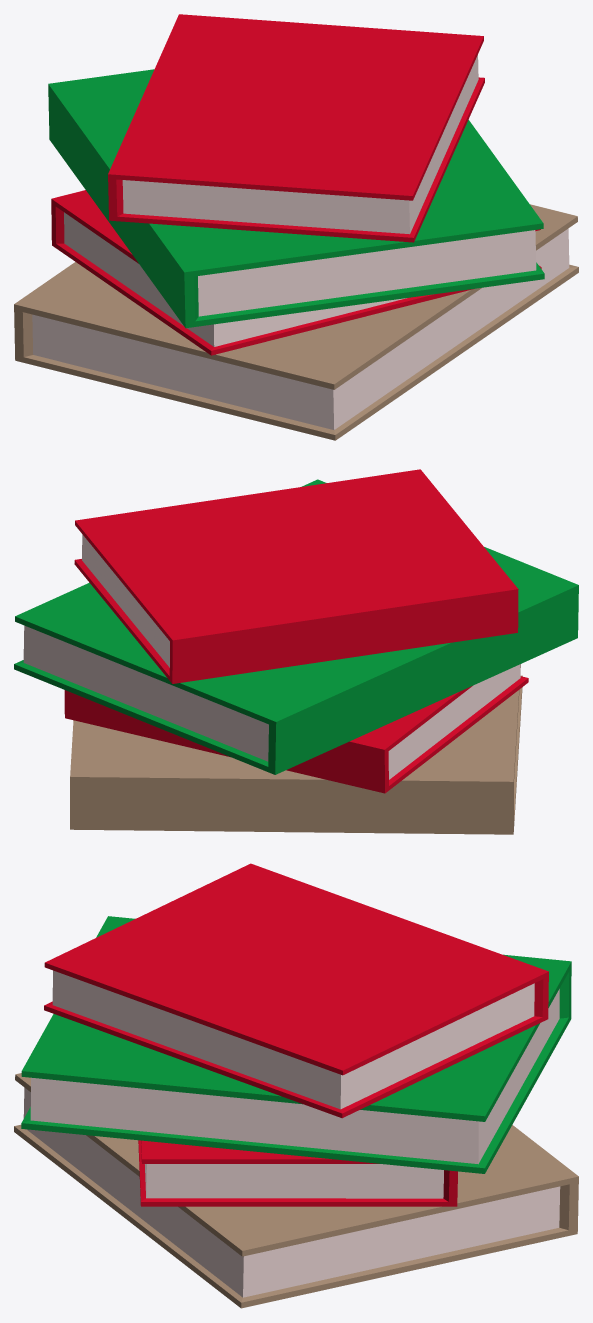
The model's file is Childroom2_Books2.fbx.
The picture shows the model from 3 angles, top to bottom: view 1: azimuth 30°, elevation 25°; view 2: azimuth 150°, elevation 25°; view 3: azimuth 270°, elevation 25°; orthographic projection. The views are drawn at different scales.
Visible parts, largest first — view 1: Childroom2_Books2; view 2: Childroom2_Books2; view 3: Childroom2_Books2.
Boxes of the visible parts, x1,y1,x2,y2 form: Childroom2_Books2: (14,14,578,440); Childroom2_Books2: (14,469,578,834); Childroom2_Books2: (14,863,578,1308).
Size of the model in its own units: 45.81 by 43.03 by 18.34.
